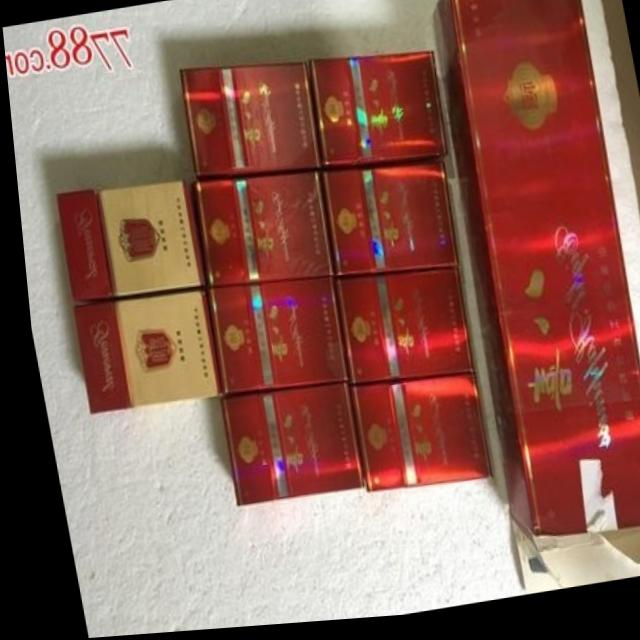box: (430, 0, 640, 545), (64, 291, 212, 414), (51, 182, 198, 303), (210, 388, 355, 508), (197, 282, 340, 398), (341, 380, 480, 498), (177, 64, 316, 181), (187, 175, 327, 291), (306, 56, 444, 171), (329, 274, 466, 389), (317, 167, 452, 280)
